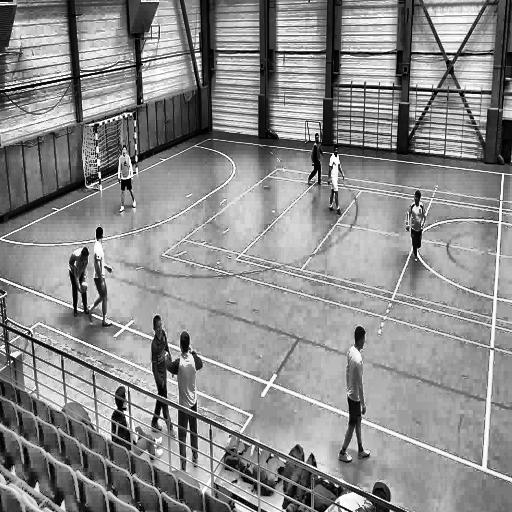ball: (80, 279, 89, 295)
player: (164, 333, 201, 473), (337, 326, 372, 463), (148, 314, 176, 438), (85, 226, 113, 330), (116, 146, 141, 216), (68, 243, 90, 320), (406, 189, 424, 265), (328, 146, 347, 215), (307, 127, 324, 186)
